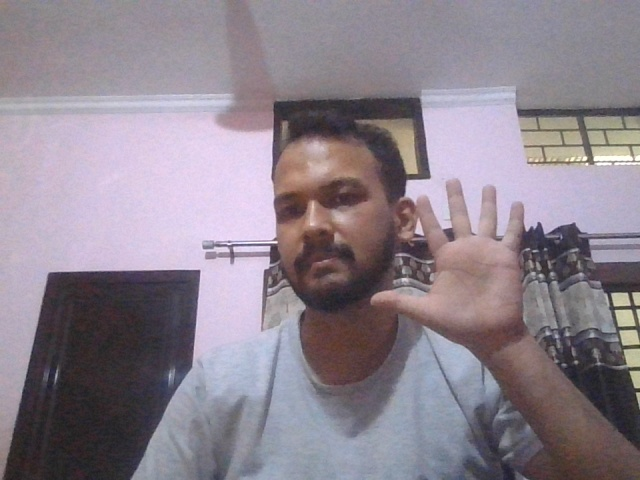hello: (370, 178, 524, 355)
